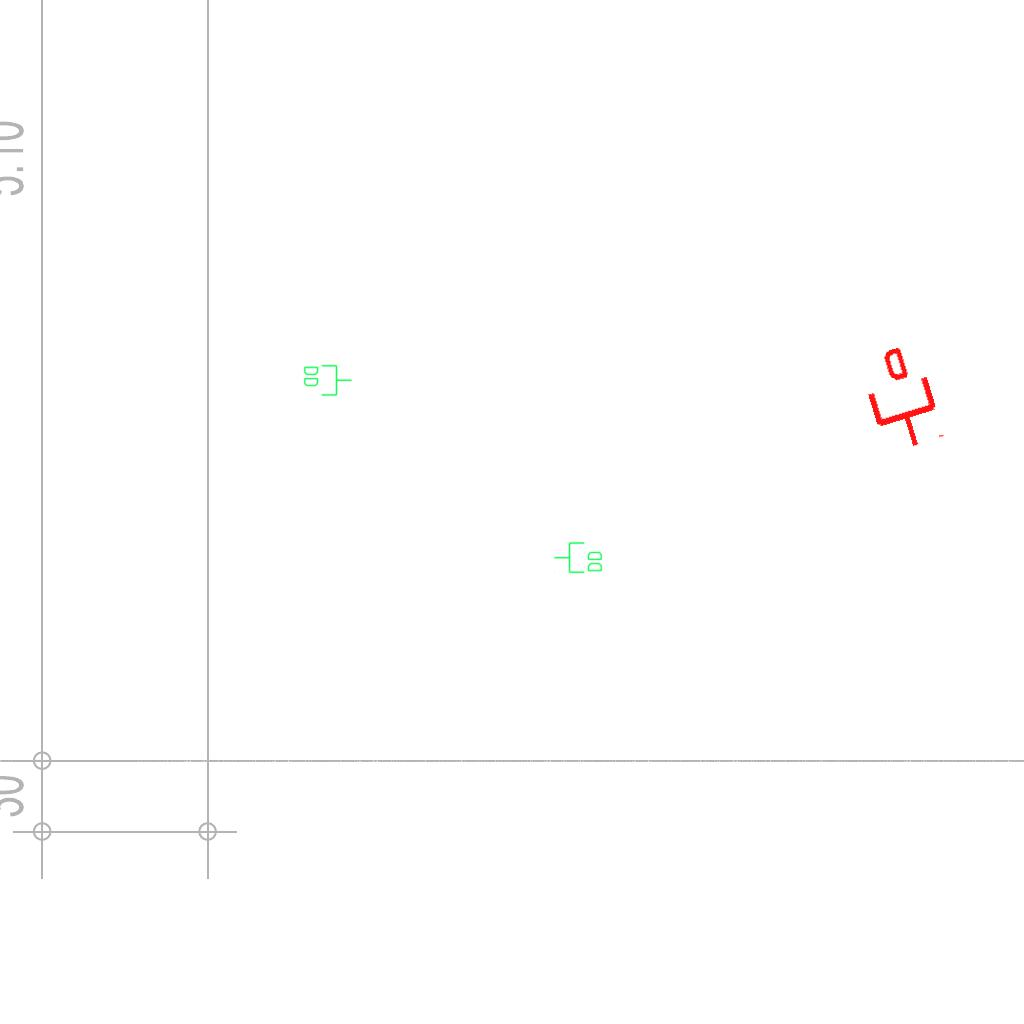Datenanschluss_einfach: (853, 341, 950, 457)
Datenanschluss_zweifach: (302, 363, 353, 397), (553, 541, 604, 575)
